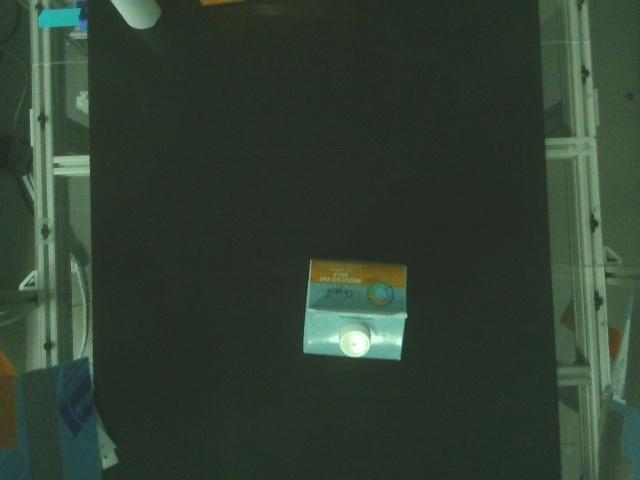cardboard: (108, 0, 162, 31), (194, 0, 248, 8)
plastic: (302, 259, 408, 361)
